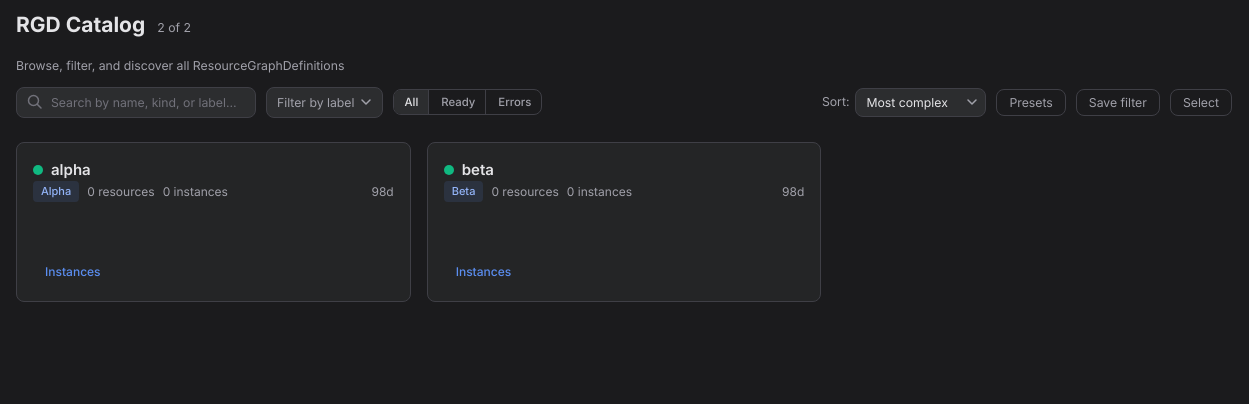
it: Catalog filter presets › saves a preset and shows it in the presets dropdown
Expected: the element with test id "catalog-card-alpha" is shown, left=16, top=142, right=411, bottom=302
Click the button with test id "catalog-status-errors" at (515, 102), box left=488, top=90, right=541, bottom=114
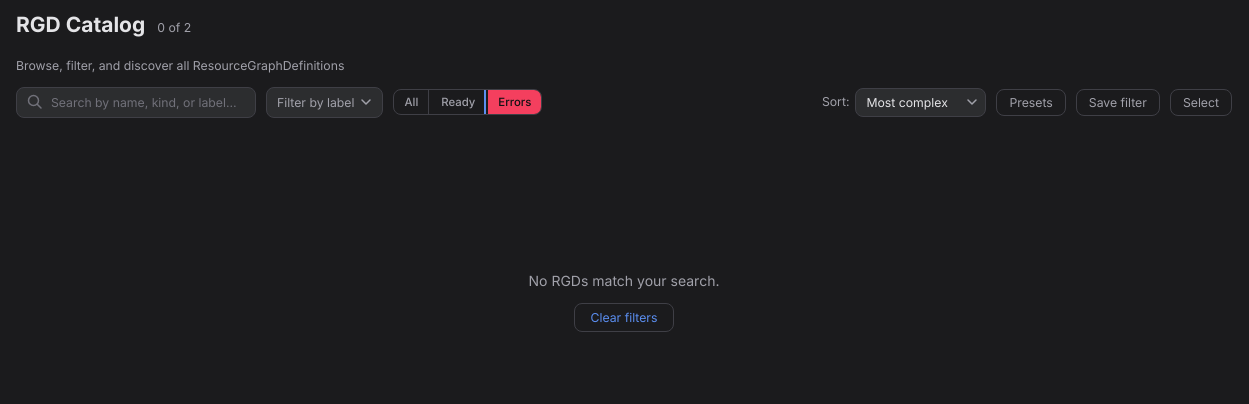
Click the button with test id "catalog-save-filter" at (1118, 102), box left=1076, top=89, right=1160, bottom=116
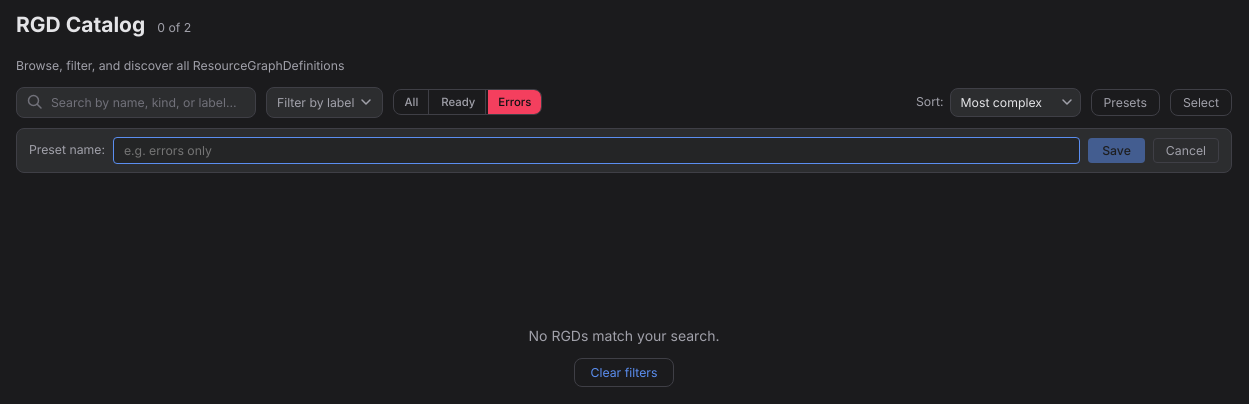
Type "errors only" into the field with test id "catalog-preset-name-input" at (597, 150), box left=113, top=137, right=1080, bottom=164
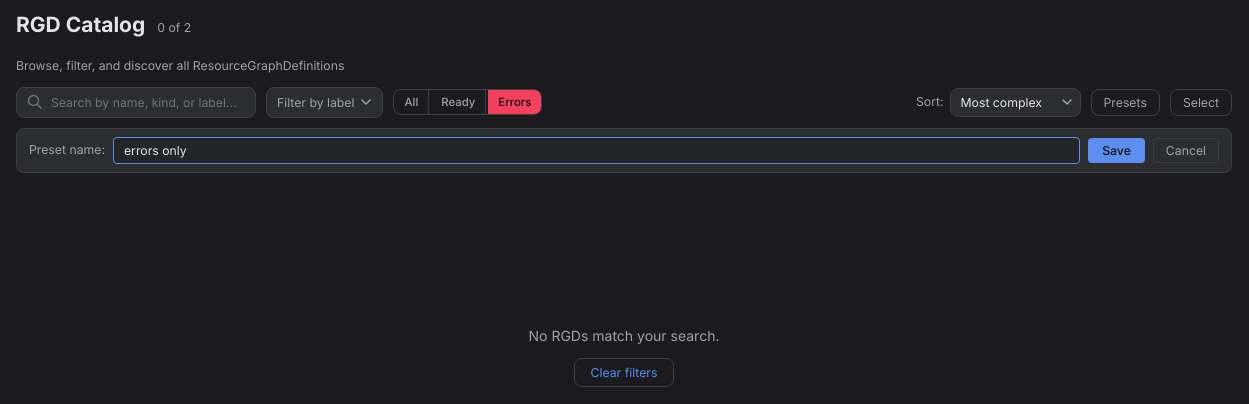
Click the button with test id "catalog-preset-save-confirm" at (1116, 150), box left=1088, top=138, right=1145, bottom=163
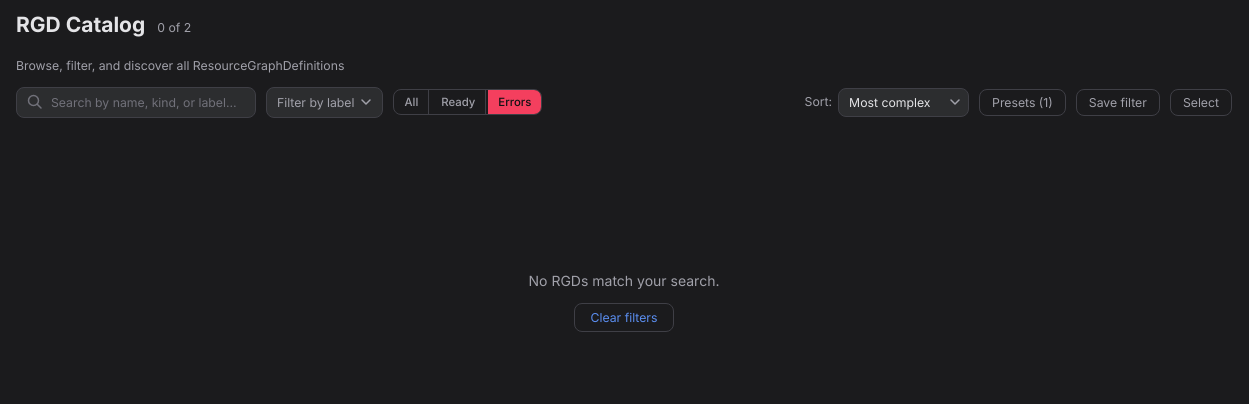
Now the element with test id "catalog-save-form" is gone
// Open presets dropdown
Click the button with test id "catalog-presets-toggle" at (1022, 102), box left=979, top=89, right=1066, bottom=116
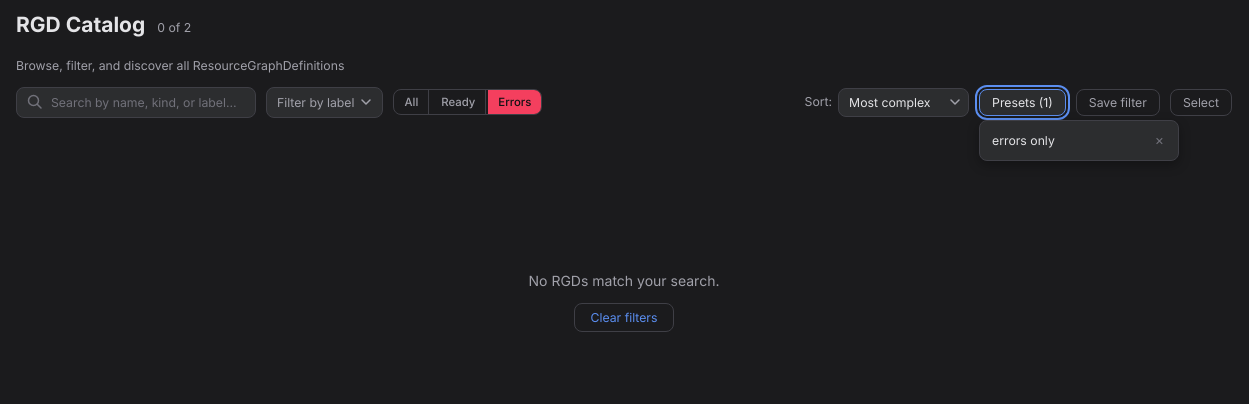
Now the list with test id "catalog-presets-dropdown" is shown, box left=979, top=120, right=1179, bottom=161
Now the button "errors only" is shown, box left=984, top=127, right=1145, bottom=154
